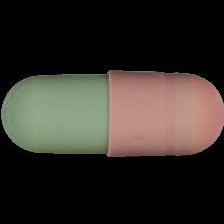68788-6390: (0, 0, 224, 224)
